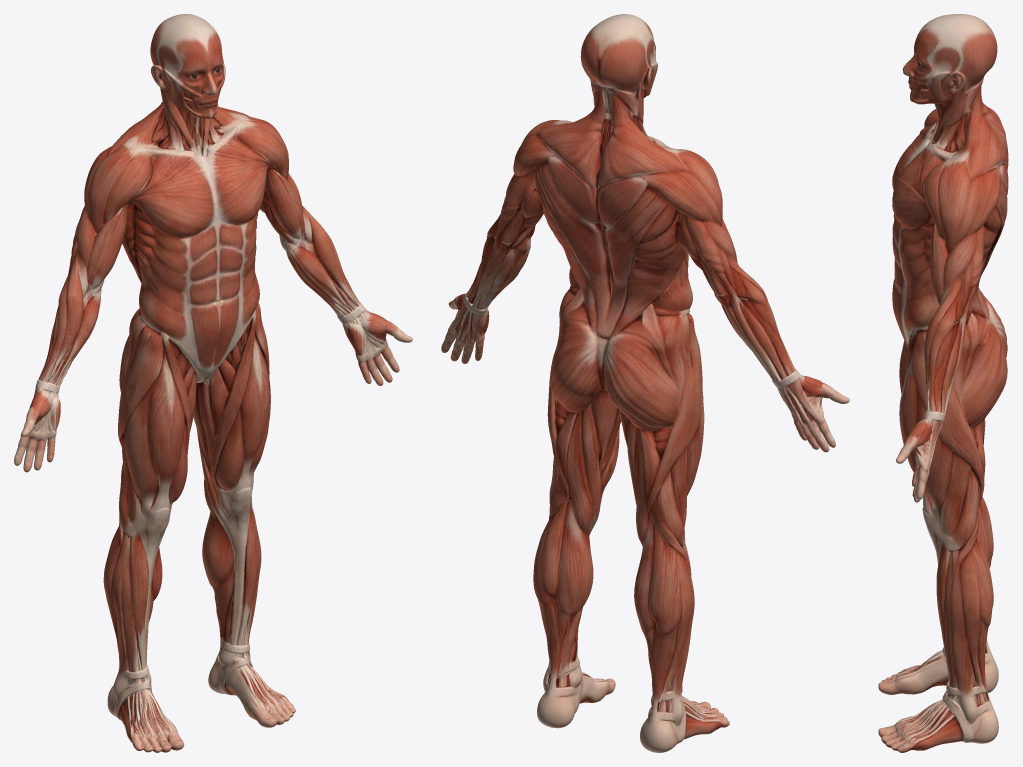
Rendered from human-muscles.glb.
The picture shows the model from 3 angles, left to right: view 1: azimuth 30°, elevation 25°; view 2: azimuth 150°, elevation 25°; view 3: azimuth 270°, elevation 25°; orthographic projection. The views are drawn at different scales.
Size of the model in its own units: 1.06 by 1.8 by 0.3029.
1 material, 1 textured.
